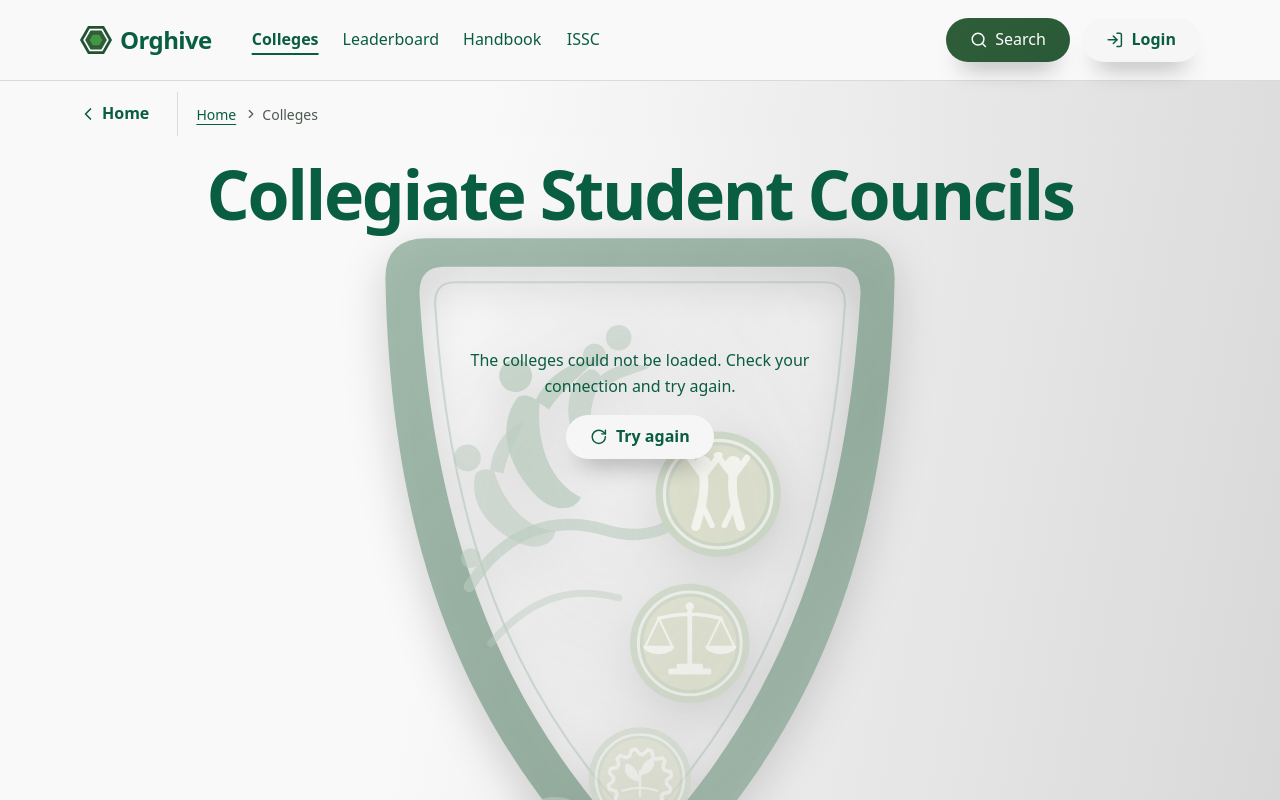
it: /colleges › explains a failed load and retries it
The image size is (1280, 800).
expect the message shows "The colleges could not be loaded": met, box [470,349,809,397]
Click the button "Try again" at (640,437), box [566,415,714,459]
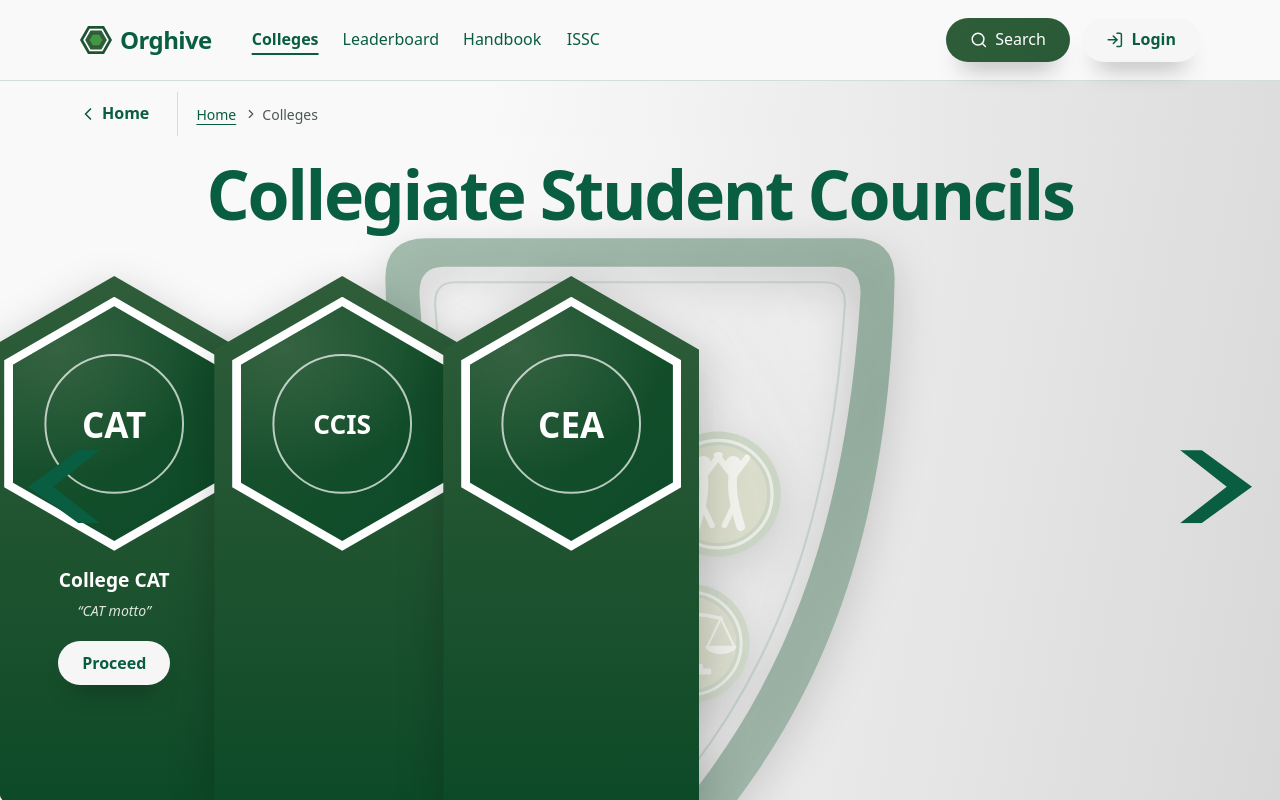
expect the element named "Collegiate Student Councils" is shown: met
